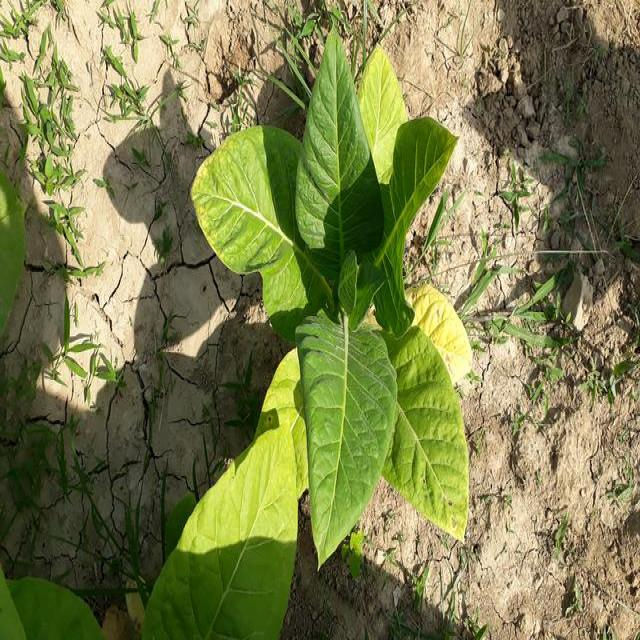crop: (194, 36, 476, 563), (150, 456, 298, 640), (0, 562, 107, 640), (0, 164, 21, 346)
